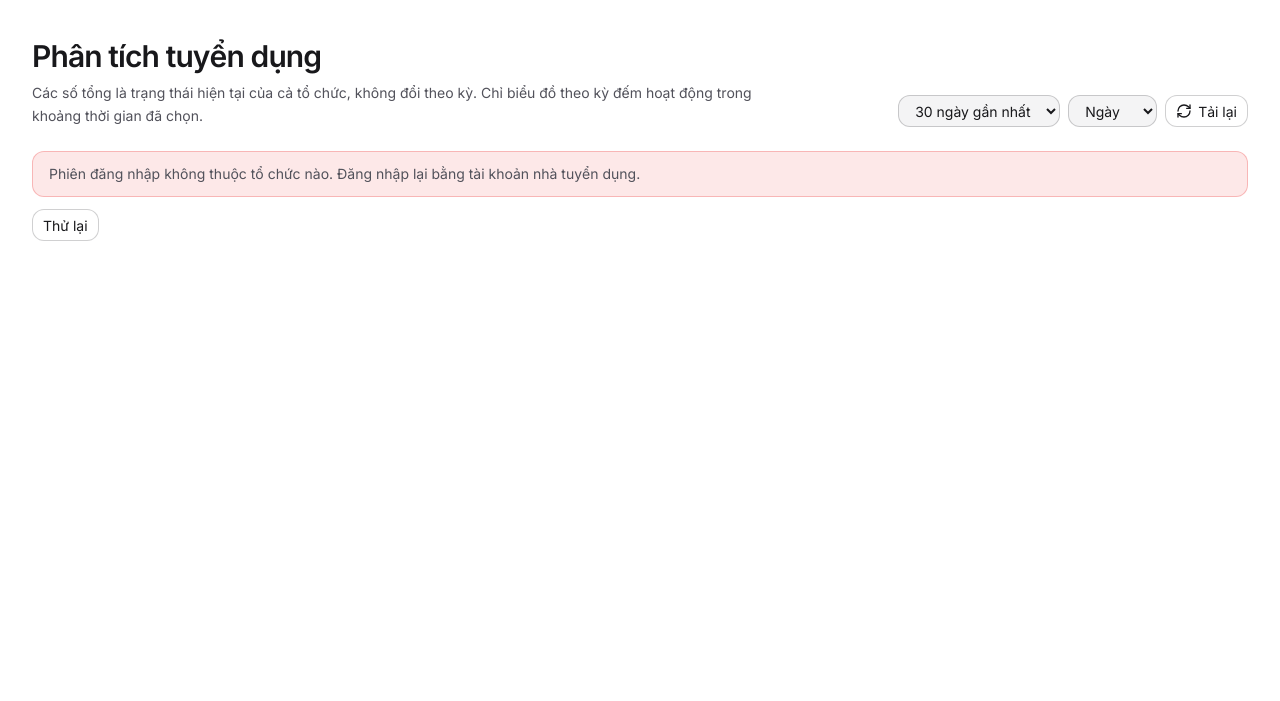
EmployerAnalyticsPage › 403 ⇒ "phiên không thuộc tổ chức" + nút thử lại gọi lại service
This screenshot has width=1280, height=701.
Expected: the message shows "Phiên đăng nhập không thuộc tổ chức nào", [49,165,640,182]
Click the button "Thử lại" at (65, 225), box [32,209,99,241]
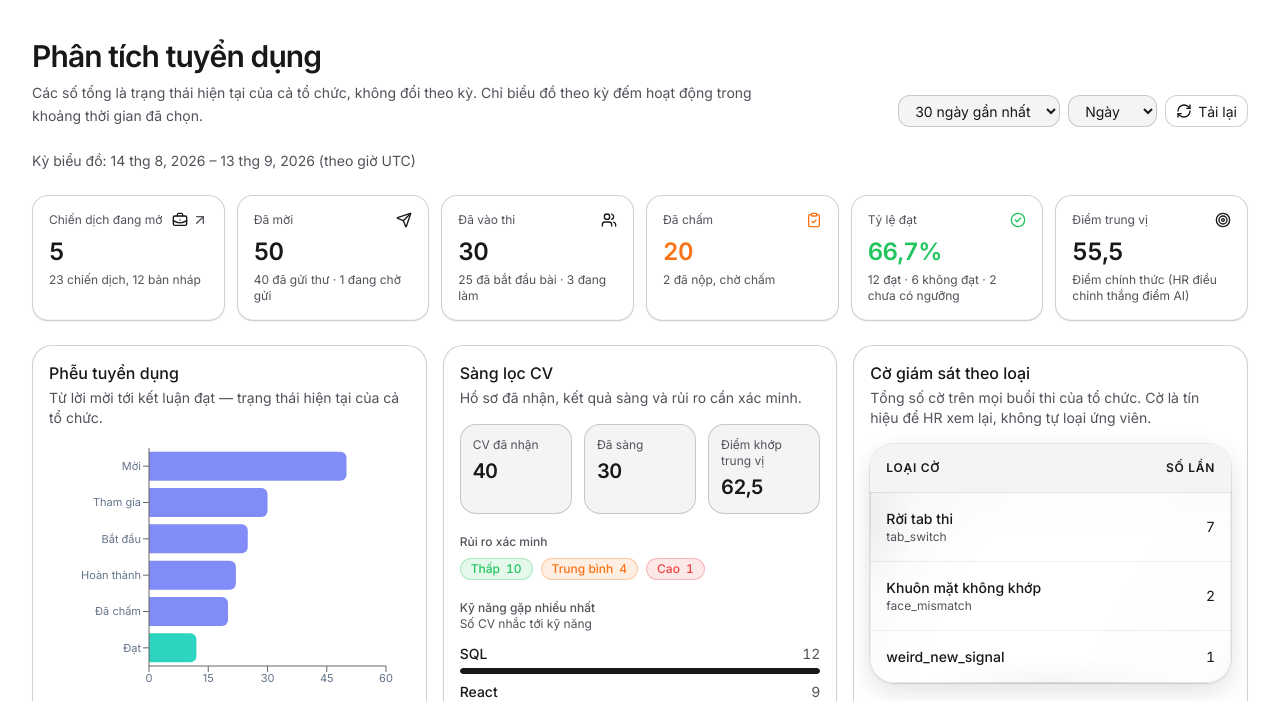
Expected: the text "Chiến dịch đang mở" is shown, [49,212,162,228]
